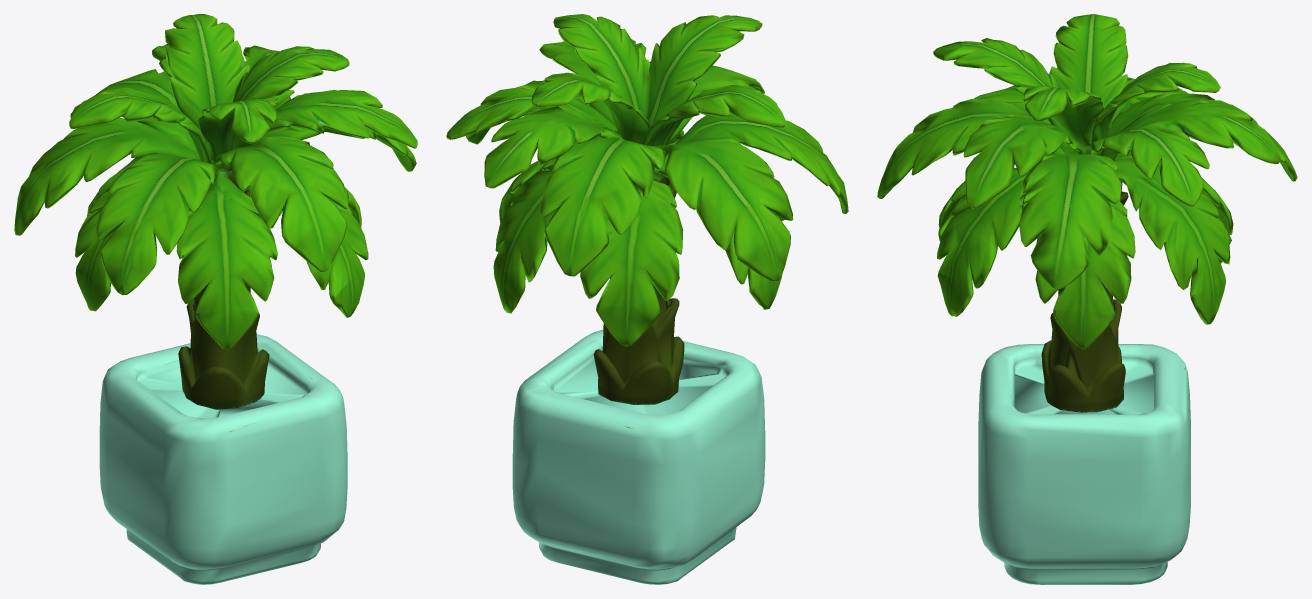
The model's file is potted-palm.fbx.
3 renders of one model, left to right at view 1: azimuth 30°, elevation 25°; view 2: azimuth 150°, elevation 25°; view 3: azimuth 270°, elevation 25°, orthographic.
Visible parts, largest first — view 1: Mesh_0; view 2: Mesh_0; view 3: Mesh_0.
Boxes of the visible parts, left/top/right/bottom form: Mesh_0: left=14, top=14, right=417, bottom=584; Mesh_0: left=446, top=14, right=848, bottom=584; Mesh_0: left=877, top=14, right=1297, bottom=584.
Bounding box in the file's own units: 71.53 × 95.17 × 73.19.
Materials: 1 (1 with a texture image).
